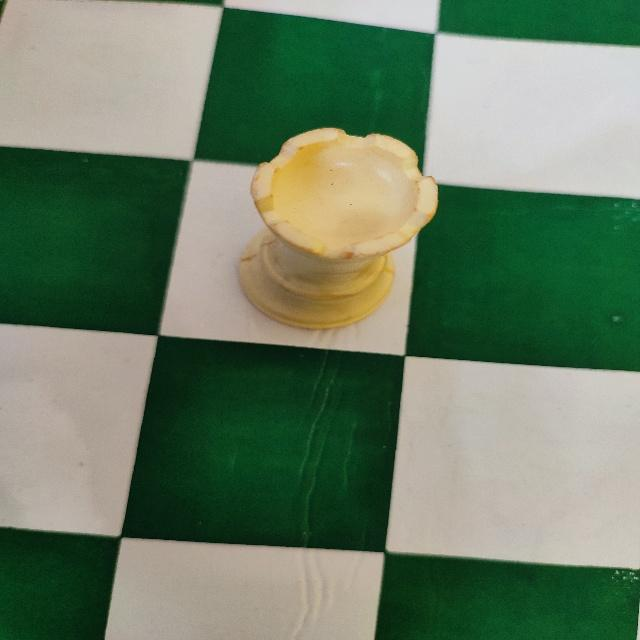Rook: (232, 126, 442, 336)
